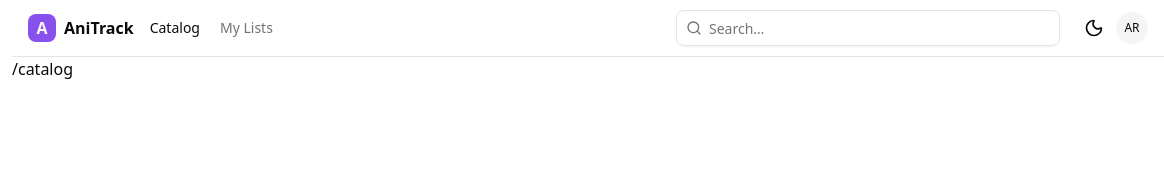
Test: Header — menú de cuenta (4.13) › CA: "Ajustes" lleva a /settings
Click the button "AR".
click(1132, 28)  # box [1116,12,1148,44]
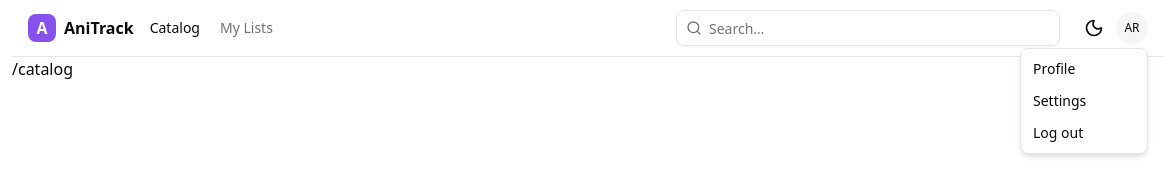
Click the menu item "Settings".
click(1060, 100)  # box [1033,91,1086,110]
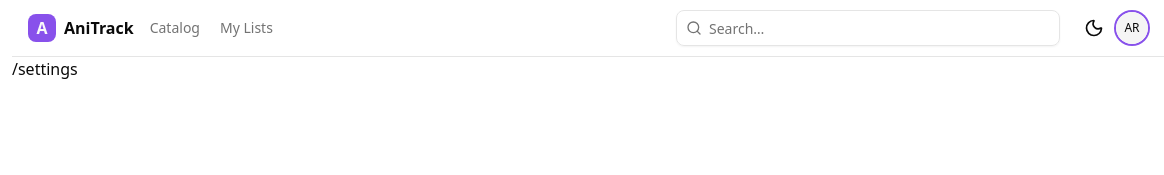
Expected: the text with test id "location" reads "/settings", [12,58,78,80]
